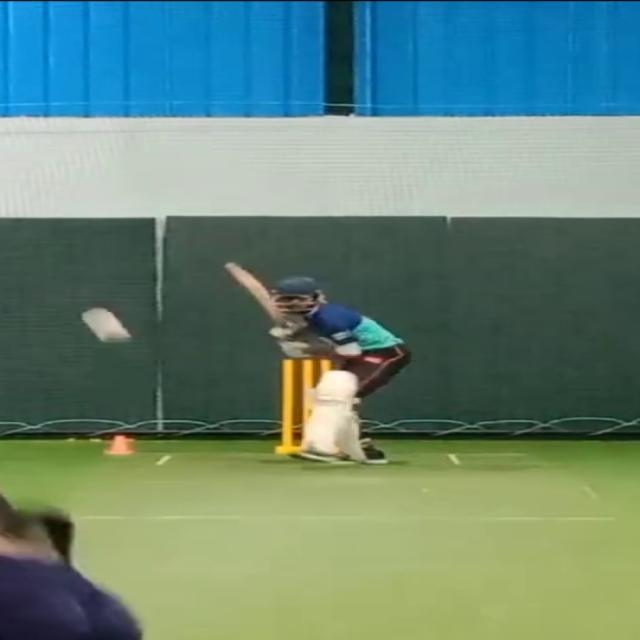ball: (84, 317, 140, 350)
stump: (272, 354, 318, 458)
